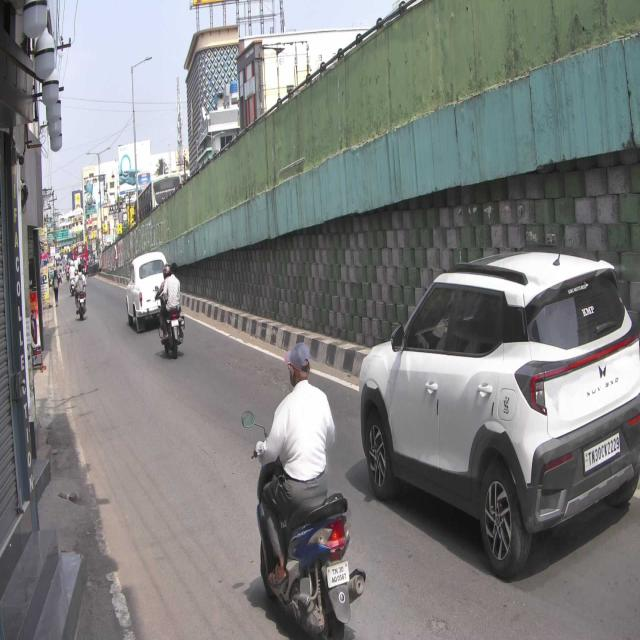single_rider: (253, 339, 367, 640)
